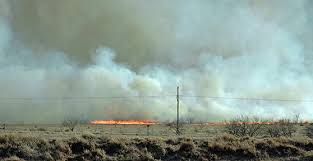smoke: (2, 2, 272, 122)
